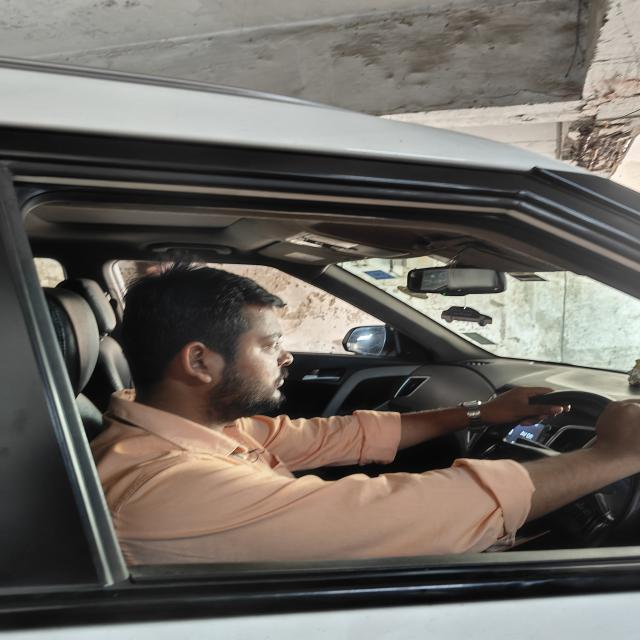no-seatbelt: (43, 352, 486, 568)
